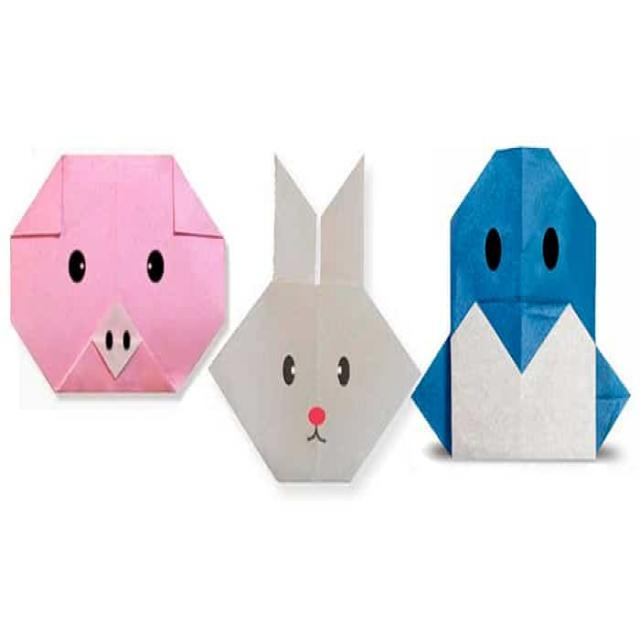Papel: (215, 142, 422, 483)
